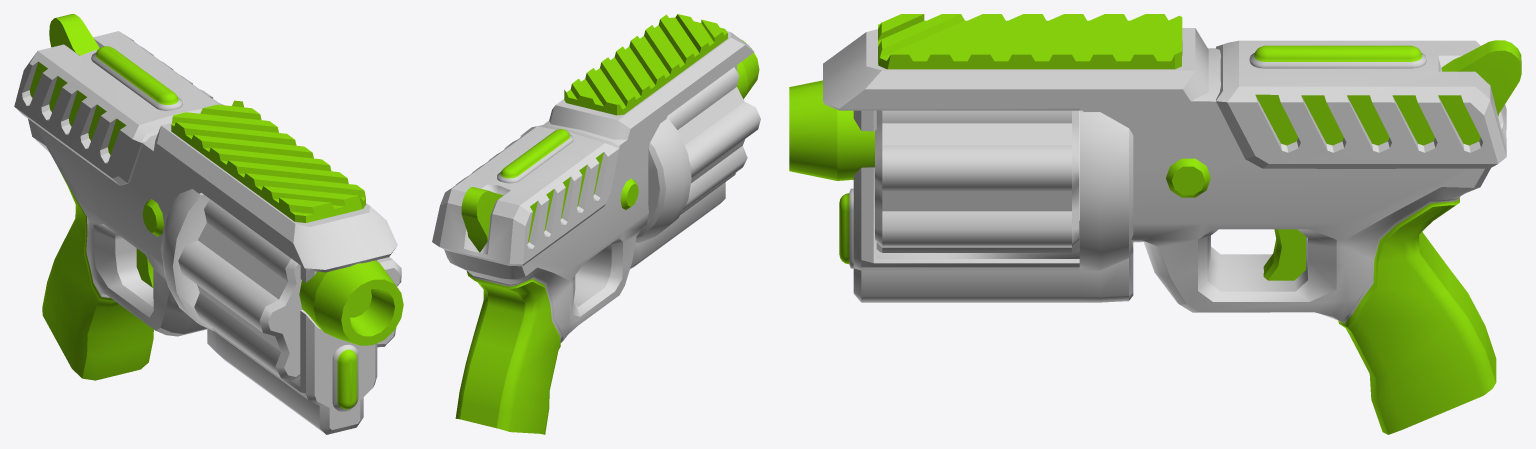
The model's file is Pistol C Mat.fbx.
3 renders of one model, left to right at view 1: azimuth 30°, elevation 25°; view 2: azimuth 150°, elevation 25°; view 3: azimuth 270°, elevation 25°, orthographic. The views are drawn at different scales.
Visible parts, largest first — view 1: Pistol C Mat.002, Pistol C Mat.001; view 2: Pistol C Mat.002, Pistol C Mat.001; view 3: Pistol C Mat.002, Pistol C Mat.001.
Part boxes in pixels (box(x1,y1,x2,y2)): Pistol C Mat.002: box(14, 14, 403, 434); Pistol C Mat.001: box(178, 199, 401, 380); Pistol C Mat.002: box(432, 14, 759, 434); Pistol C Mat.001: box(667, 67, 760, 211); Pistol C Mat.002: box(789, 14, 1521, 434); Pistol C Mat.001: box(875, 110, 1079, 252).
Size of the model in its own units: 0.2352 by 0.4935 by 0.8509.
